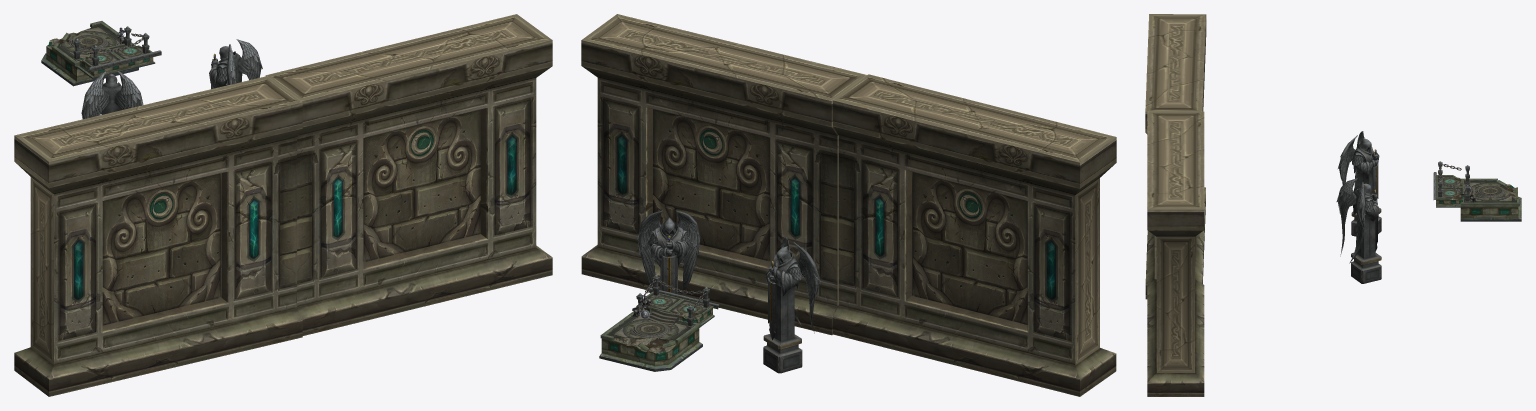
Rendered from denglu001.fbx.
3 views of the same model, side by side, from view 1: azimuth 30°, elevation 25°; view 2: azimuth 150°, elevation 25°; view 3: azimuth 270°, elevation 25° (orthographic). The views are drawn at different scales.
Parts seen in each view (by area): view 1: polySurface1; view 2: polySurface1; view 3: polySurface1.
Boxes of the visible parts, x1,y1,x2,y2 form: polySurface1: [14, 14, 552, 396]; polySurface1: [581, 14, 1116, 396]; polySurface1: [1145, 14, 1521, 396].
Size of the model in its own units: 44.17 by 19.75 by 35.92.
